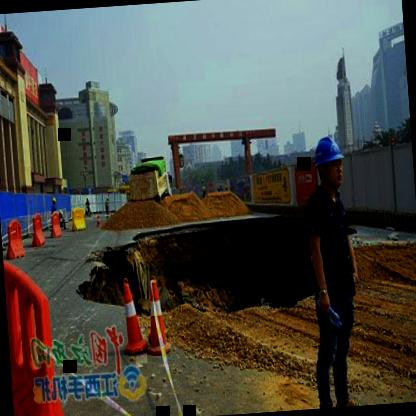helmet: (308, 128, 349, 198)
